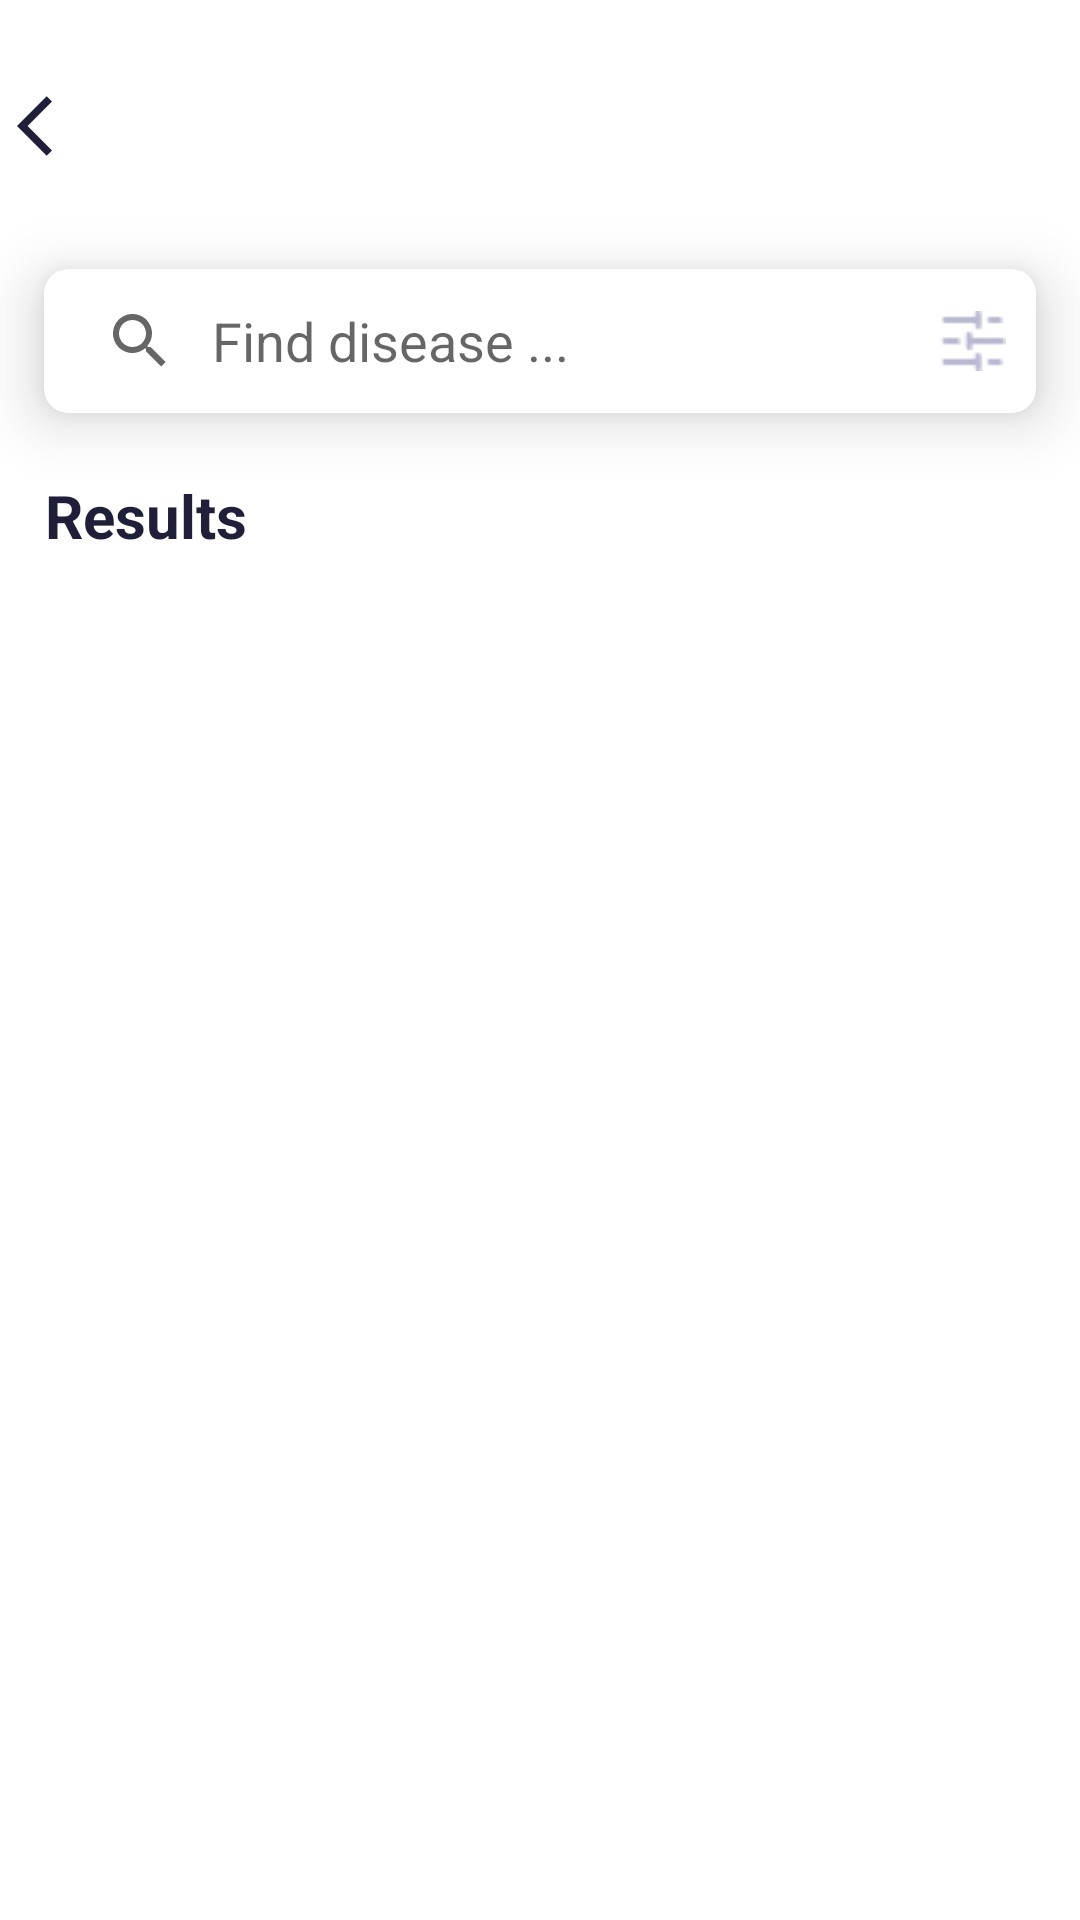

Named icons in this screenshot (1080×1920) and their bounding boxes, (x1, y1, x2, y2):
back: (17, 96, 52, 156)
filter: (942, 311, 1006, 371)
